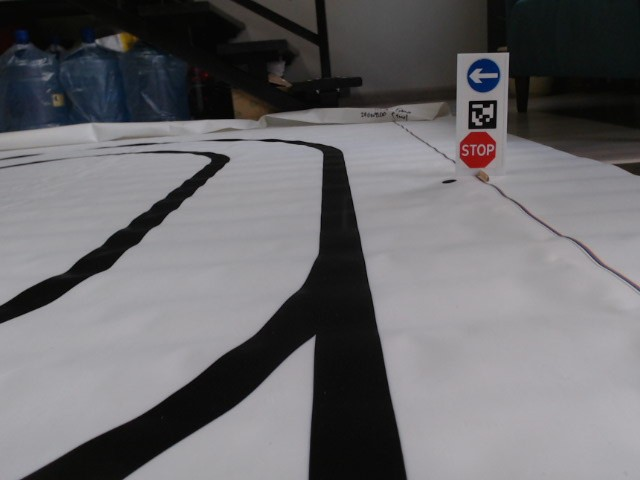Stop: (458, 130, 498, 170)
